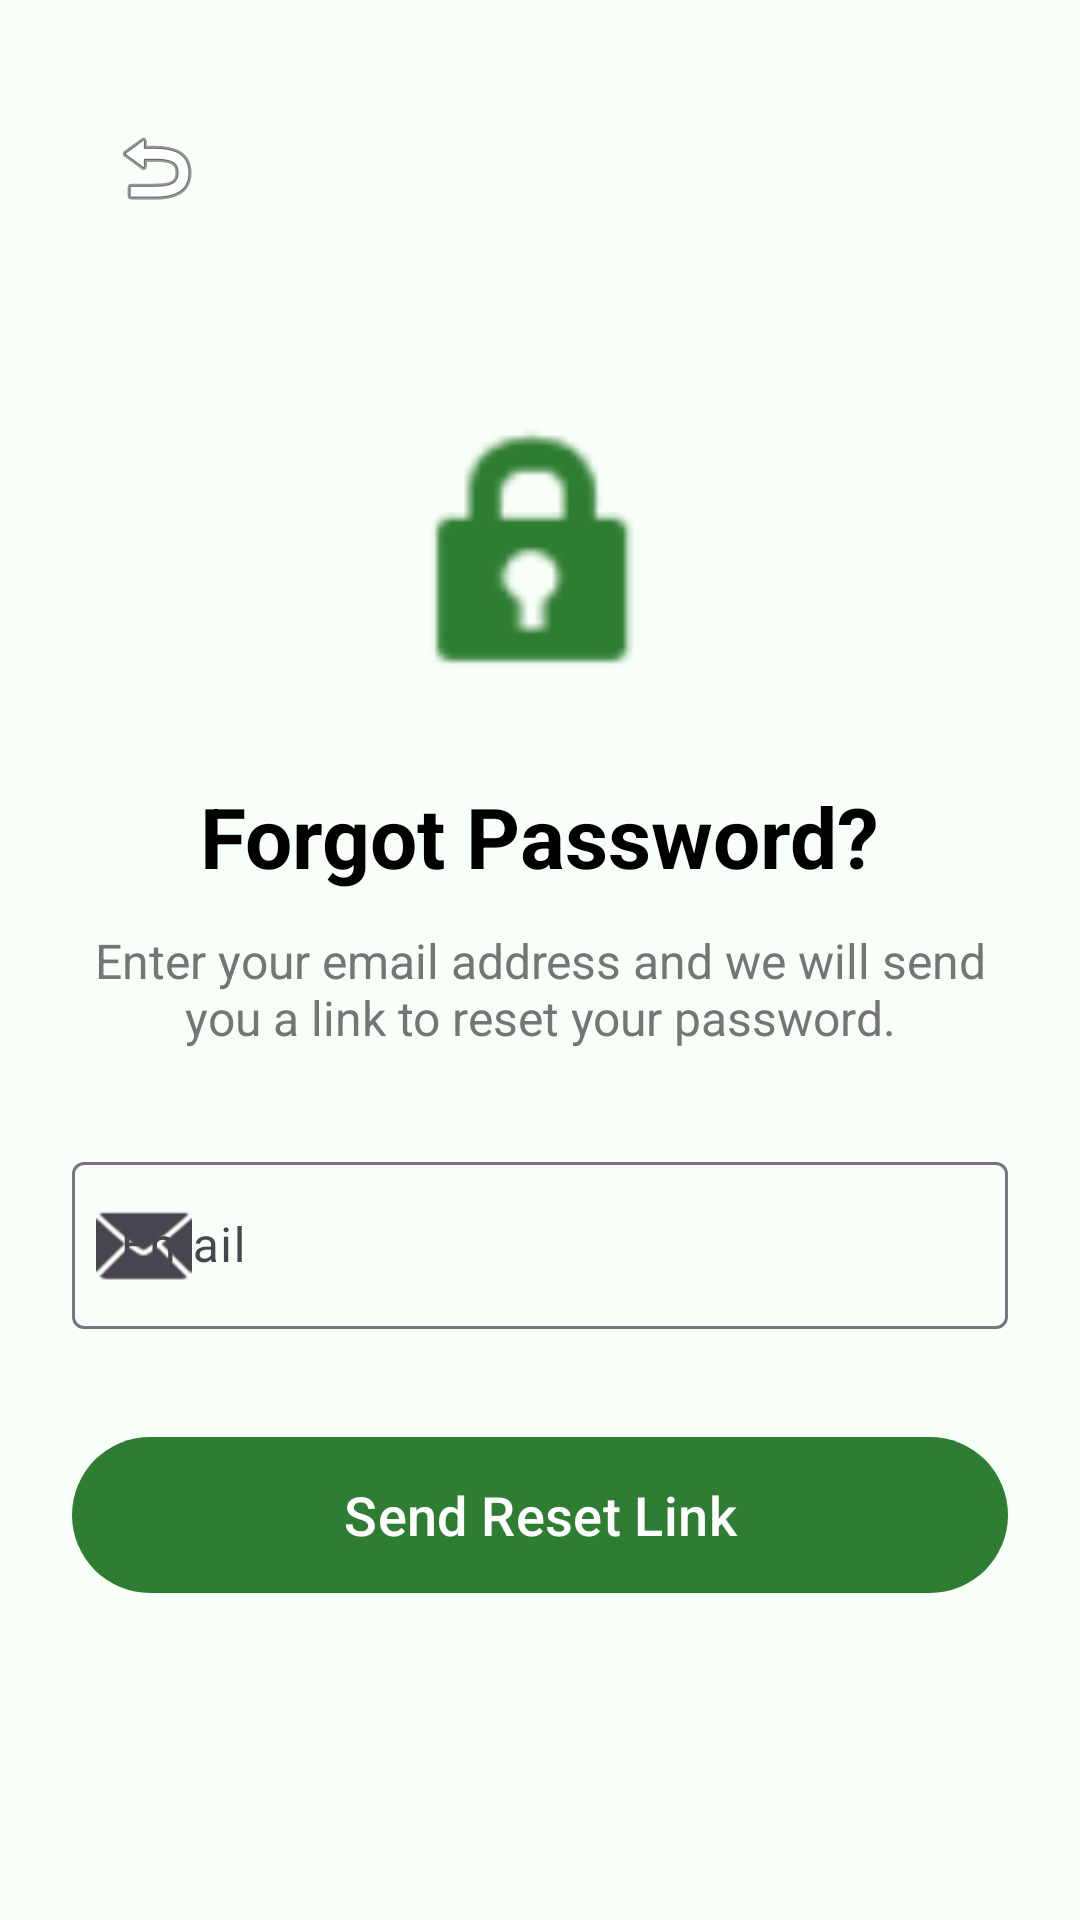

Point at icon controls on the screen. Image size 1080w x 1920h, points as (x,y).
lock idle: (533,548)
